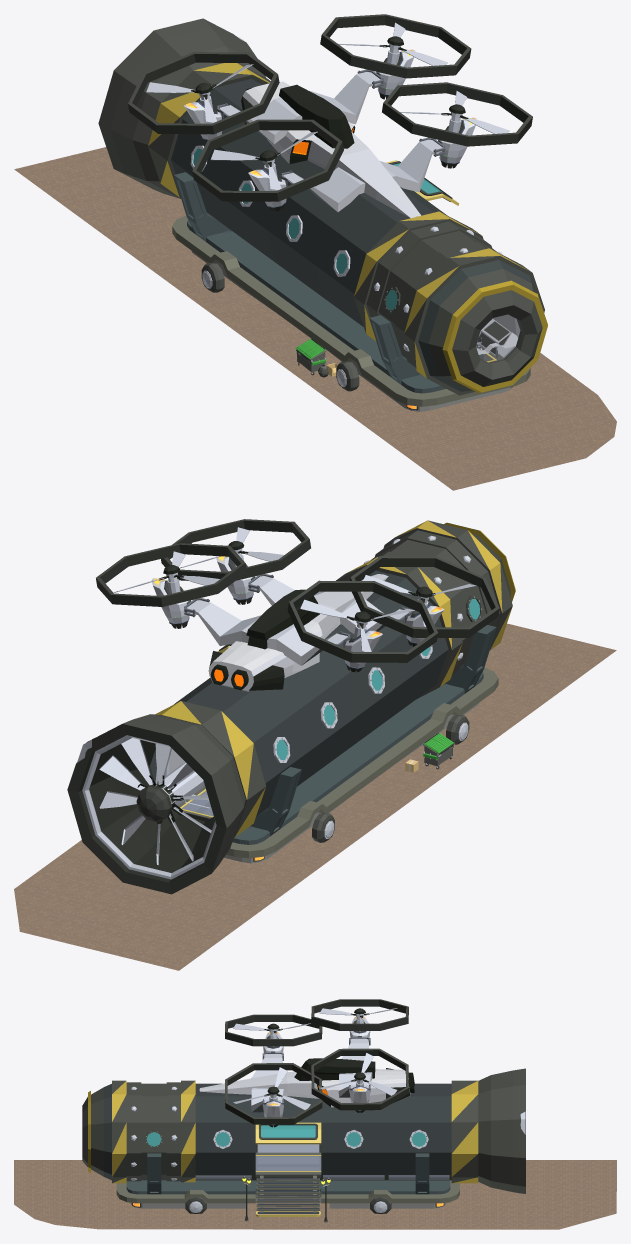
Rendered from spaceship_park.glb.
3 renders of one model, top to bottom at view 1: azimuth 30°, elevation 25°; view 2: azimuth 150°, elevation 25°; view 3: azimuth 270°, elevation 25°, orthographic. The views are drawn at different scales.
Parts seen in each view (by area): view 1: SpaceShip_Structure, Plane.010, SpaceShip_Base, SpaceShip_Turbine, SpaceShip_Power, SpaceShip_Helix.003, SpaceShip_Helix.002, SpaceShip_Interior, SpaceShip_CommandCenter, Skip_02.001; view 2: Plane.010, SpaceShip_Structure, SpaceShip_Turbine, SpaceShip_Base, SpaceShip_Power, SpaceShip_Helix.002, SpaceShip_Helix.003, Skip_02.001; view 3: SpaceShip_Structure, Plane.010, SpaceShip_Base, SpaceShip_Turbine, SpaceShip_Power, SpaceShip_Helix.002, SpaceShip_Helix.003, SpaceShip_Floor.
Part boxes in pixels (x1,y1,x2,y2): SpaceShip_Structure: (171,79,547,395); Plane.010: (14,147,616,490); SpaceShip_Base: (172,172,530,411); SpaceShip_Turbine: (98,18,270,198); SpaceShip_Power: (219,72,442,217); SpaceShip_Helix.003: (192,82,532,211); SpaceShip_Helix.002: (128,14,471,142); SpaceShip_Interior: (476,314,521,363); SpaceShip_CommandCenter: (476,318,518,359); Skip_02.001: (295,338,326,375); Plane.010: (14,623,616,970); SpaceShip_Structure: (150,520,515,820); SpaceShip_Turbine: (67,701,266,894); SpaceShip_Base: (224,625,498,863); SpaceShip_Power: (187,574,408,691); SpaceShip_Helix.002: (96,543,438,672); SpaceShip_Helix.003: (161,519,499,646); Skip_02.001: (423,732,454,769); SpaceShip_Structure: (82,1080,451,1183); Plane.010: (14,1160,616,1229); SpaceShip_Base: (116,1153,459,1216); SpaceShip_Turbine: (451,1068,525,1193); SpaceShip_Power: (199,1038,414,1112); SpaceShip_Helix.002: (311,999,408,1112); SpaceShip_Helix.003: (225,1014,322,1127); SpaceShip_Floor: (255,1152,321,1174).
Size of what is drawn, in the model's own units: 25.4 by 17.69 by 61.4.
3 materials, 3 textured.
